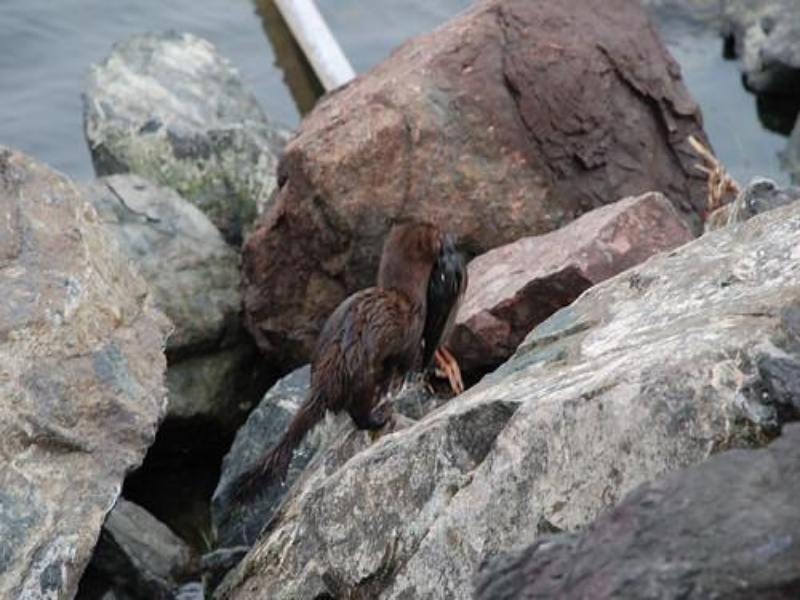minkish: (223, 215, 443, 509)
